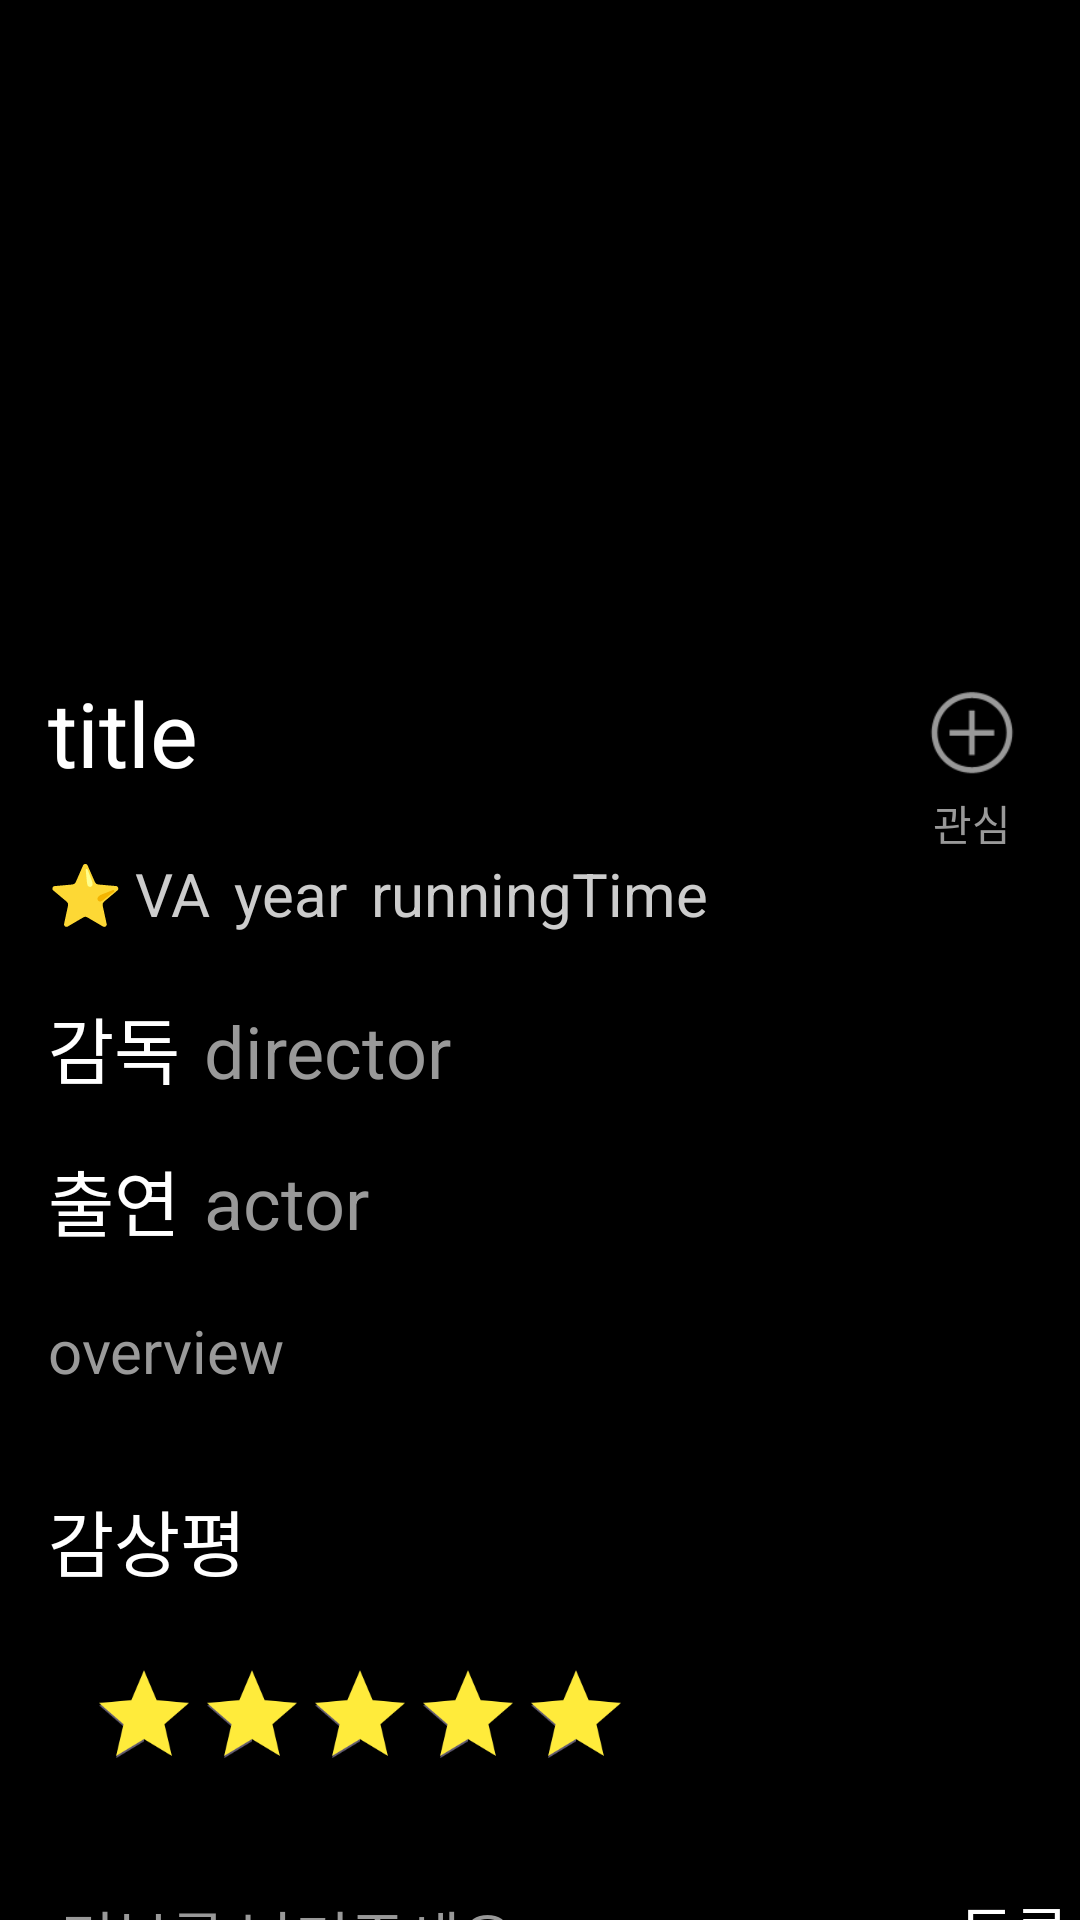

Where icons sit on this 1080 x 1920 app screen, as BBox(x1, y1, x2, y2):
add: BBox(931, 692, 1013, 774)
